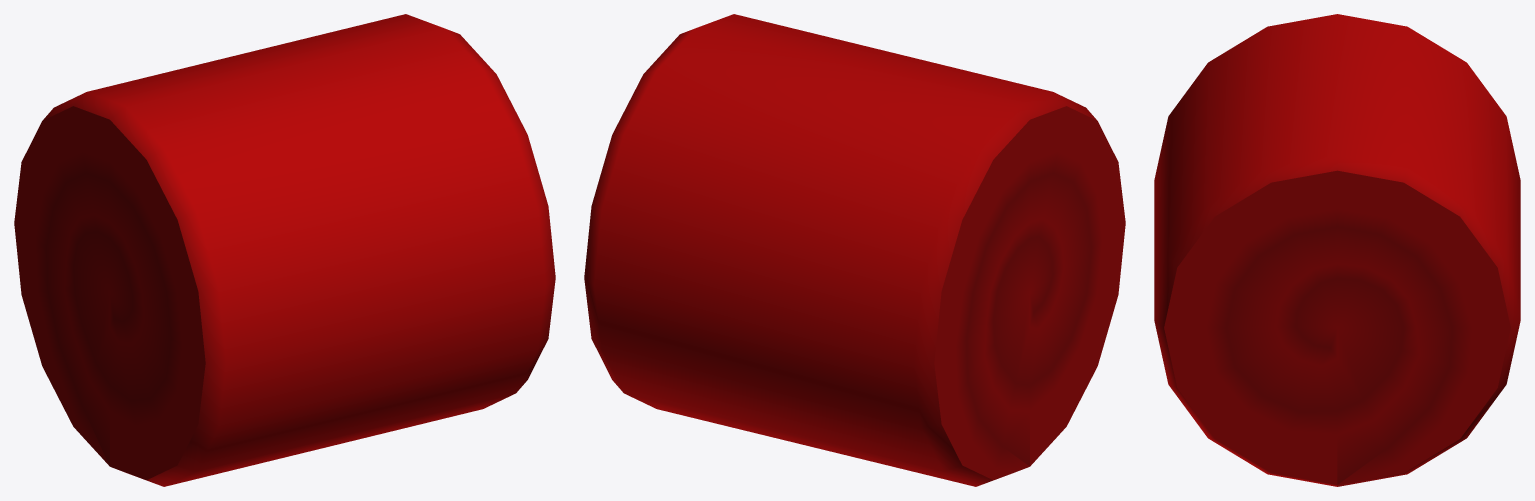
The model's file is RoundHayBale.glb.
3 views of the same model, side by side, from view 1: azimuth 30°, elevation 25°; view 2: azimuth 150°, elevation 25°; view 3: azimuth 270°, elevation 25° (orthographic). The views are drawn at different scales.
Parts seen in each view (by area): view 1: RoundHayBale; view 2: RoundHayBale; view 3: RoundHayBale.
Part boxes in pixels (box(x1,y1,x2,y2)): RoundHayBale: box(14, 14, 555, 486); RoundHayBale: box(584, 14, 1125, 486); RoundHayBale: box(1154, 14, 1520, 486).
Bounding box in the file's own units: 17.26 × 17.26 × 17.26.
